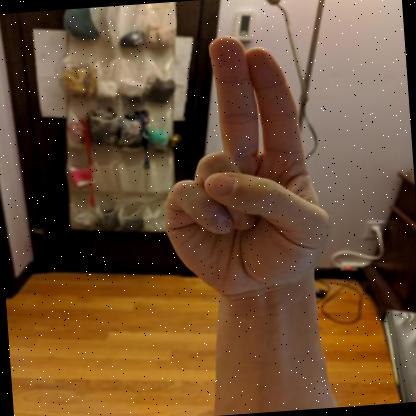U: (165, 36, 330, 298)
